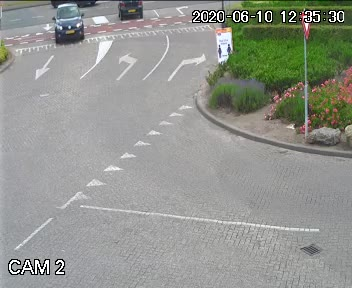car: (46, 6, 86, 46), (116, 0, 143, 25)
